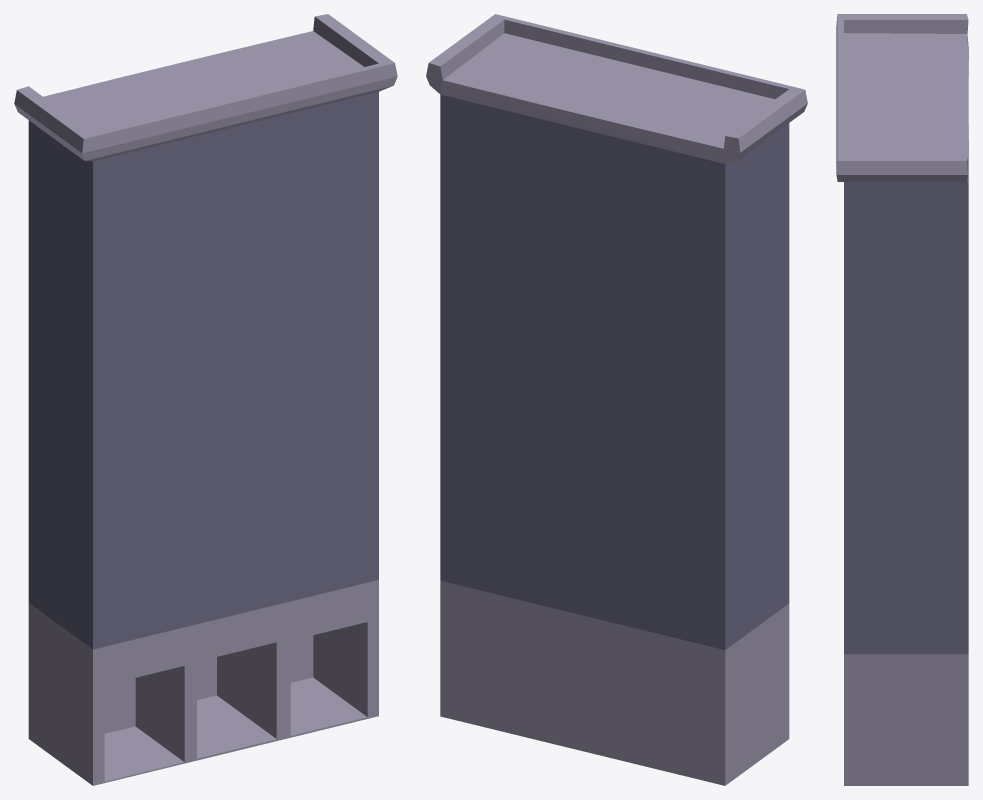
Rendered from building_I_5floors.fbx.
The picture shows the model from 3 angles, left to right: view 1: azimuth 30°, elevation 25°; view 2: azimuth 150°, elevation 25°; view 3: azimuth 270°, elevation 25°; orthographic projection. The views are drawn at different scales.
Parts seen in each view (by area): view 1: building_I_5floors; view 2: building_I_5floors; view 3: building_I_5floors.
Part boxes in pixels (<box>): building_I_5floors: <box>14,14,397,785</box>; building_I_5floors: <box>426,14,807,785</box>; building_I_5floors: <box>836,14,968,785</box>.
Size of the model in its own units: 8.89 by 17.57 by 3.33.
